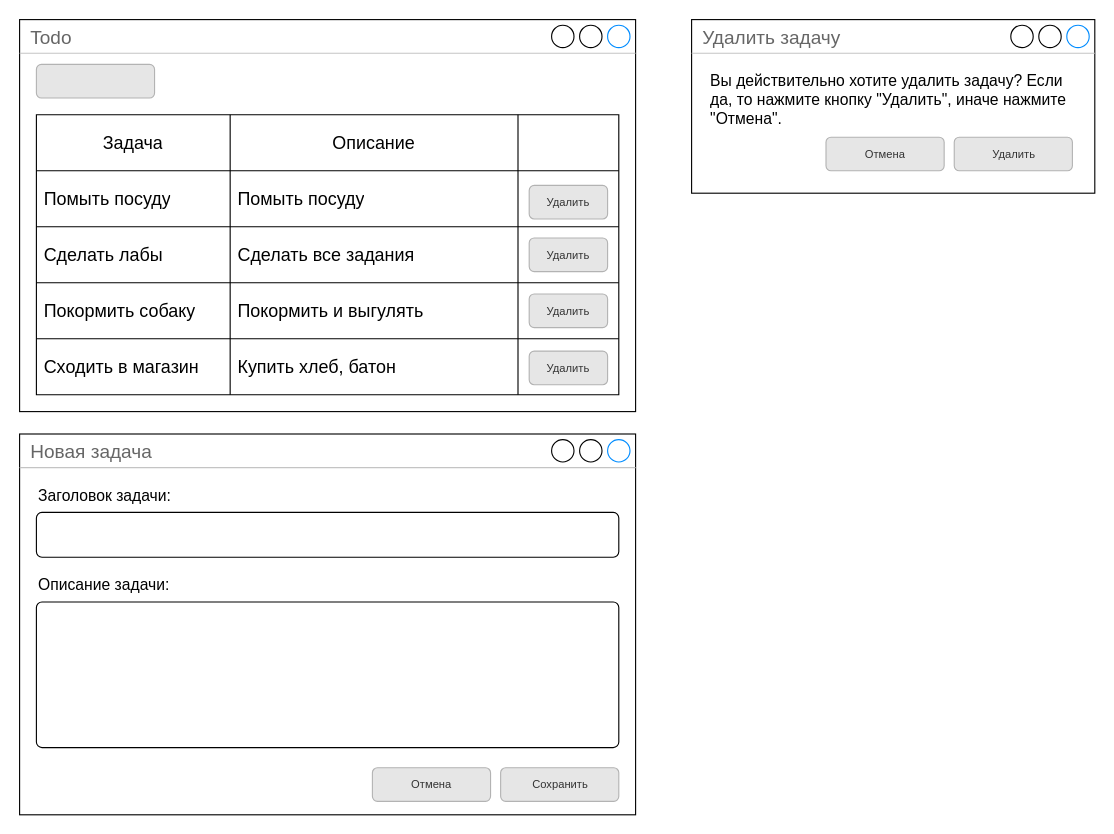
Some shapes in this 1114 by 834 pixel diagram are drawn without their labels. Here are the shapes that lost their labels. From the top down, the centre of each, then its label:
[95,80]: Добавить задачу
[327,534]: Введите заголовок задачи...
[327,674]: Введите описание задачи...
